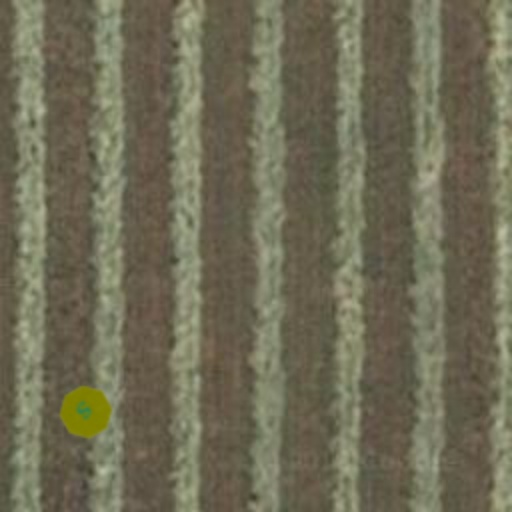octagon: (48, 374, 124, 450)
